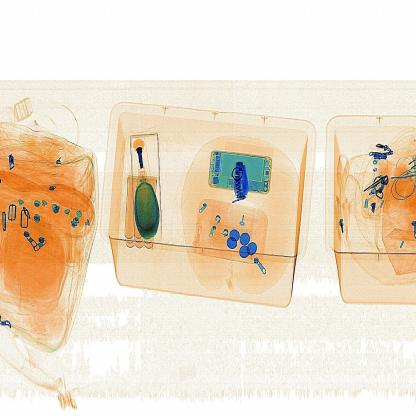scissors: (228, 155, 258, 214)
